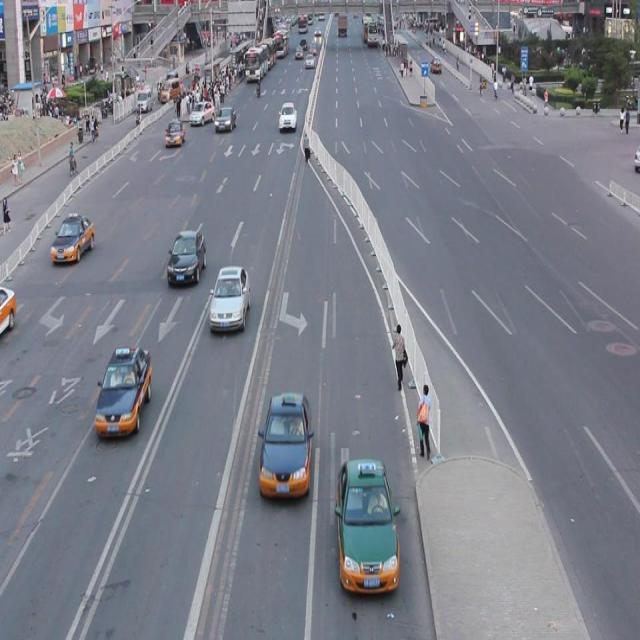car: (335, 438, 400, 610), (264, 371, 314, 514), (92, 331, 157, 438), (212, 246, 249, 351), (167, 220, 210, 298), (56, 203, 99, 271), (275, 100, 301, 142), (166, 107, 186, 149), (192, 92, 212, 130), (218, 105, 237, 132)
